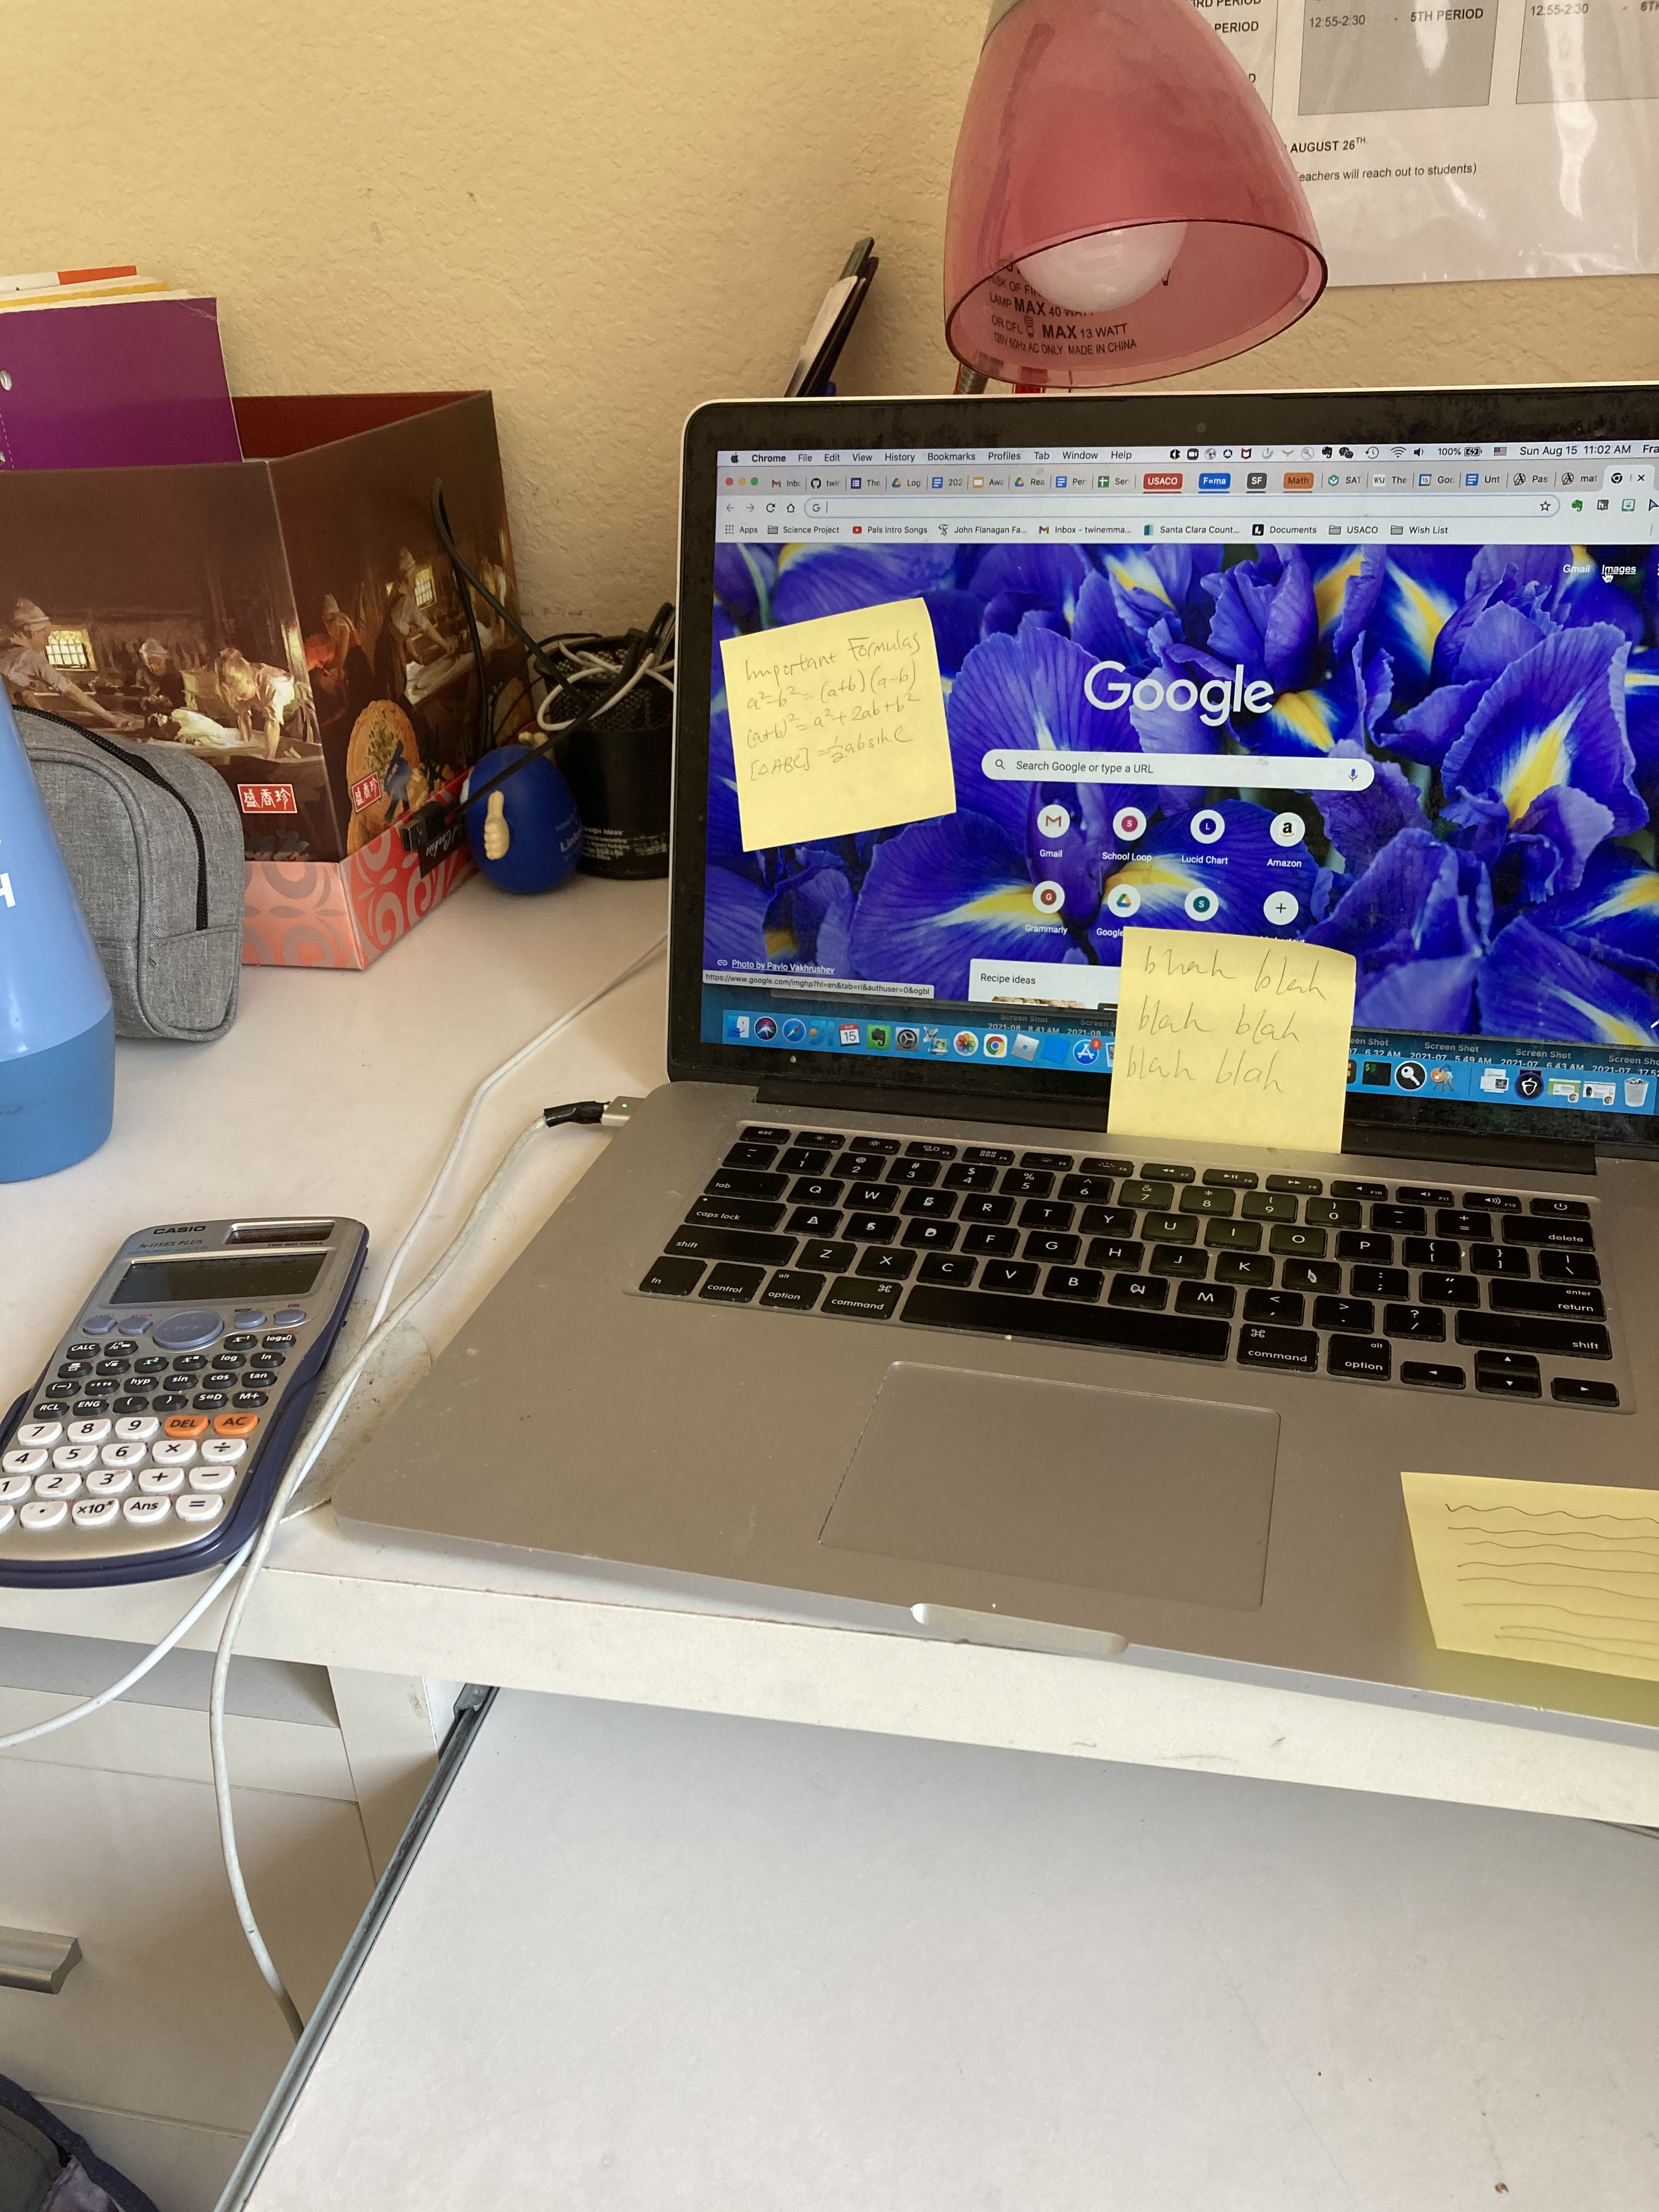Calculator: (9, 1217, 345, 1569)
Note: (1114, 916, 1368, 1162), (721, 594, 964, 848), (1403, 1468, 1659, 1688)
